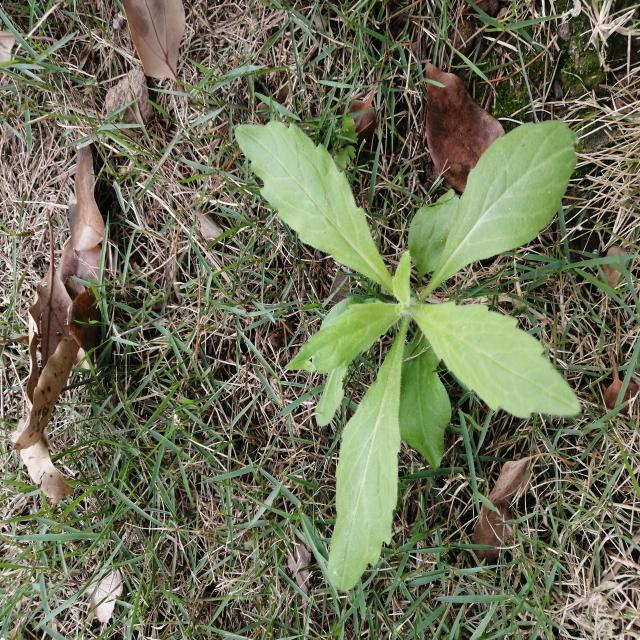horseweed: (241, 90, 581, 568)
